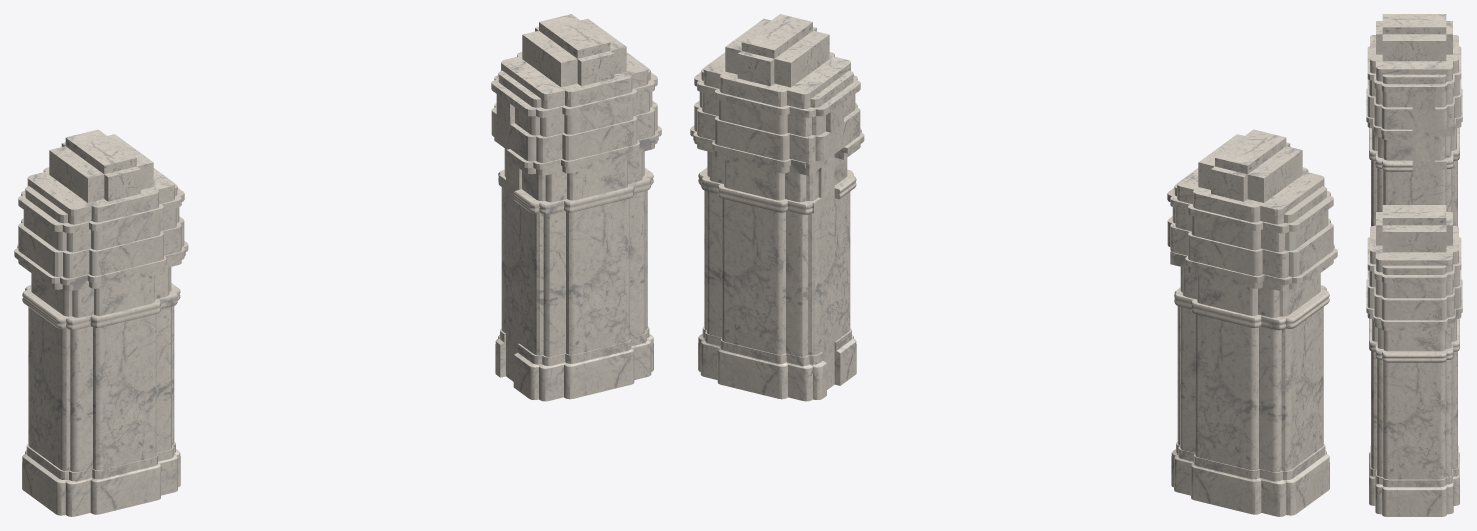
The model's file is pillar_stairs_side_reversed.fbx.
3 views of the same model, side by side, from view 1: azimuth 30°, elevation 25°; view 2: azimuth 150°, elevation 25°; view 3: azimuth 270°, elevation 25° (orthographic). The views are drawn at different scales.
Visible parts, largest first — view 1: stairs_pillar_UV_re1, stairs_pillar_UV_re; view 2: stairs_pillar_UV_re, stairs_pillar_UV_re1; view 3: stairs_pillar_UV_re, stairs_pillar_UV_re1.
Part boxes in pixels (bbox=[...]): stairs_pillar_UV_re1: bbox=[14, 129, 188, 516]; stairs_pillar_UV_re: bbox=[491, 14, 661, 401]; stairs_pillar_UV_re: bbox=[690, 14, 864, 401]; stairs_pillar_UV_re1: bbox=[1167, 129, 1337, 516]; stairs_pillar_UV_re: bbox=[1366, 205, 1462, 516]; stairs_pillar_UV_re1: bbox=[1366, 14, 1462, 226].
Bounding box in the file's own units: 26.36 × 13.98 × 4.36.
Materials: 1 (1 with a texture image).
